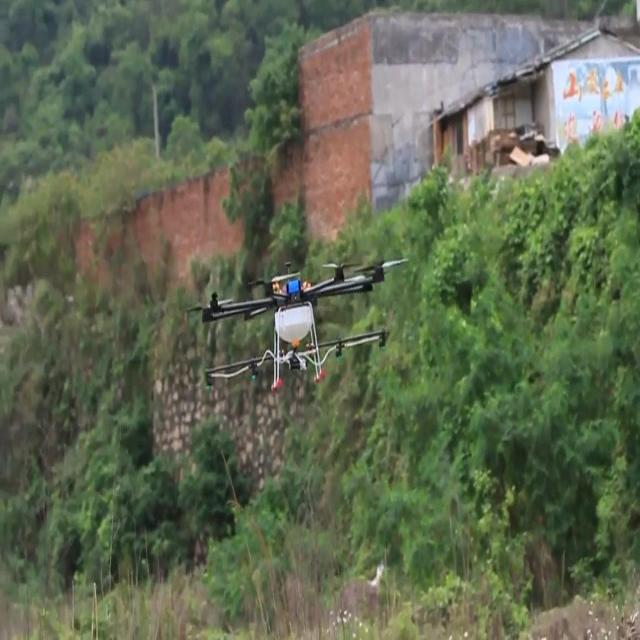drone: (194, 254, 407, 392)
